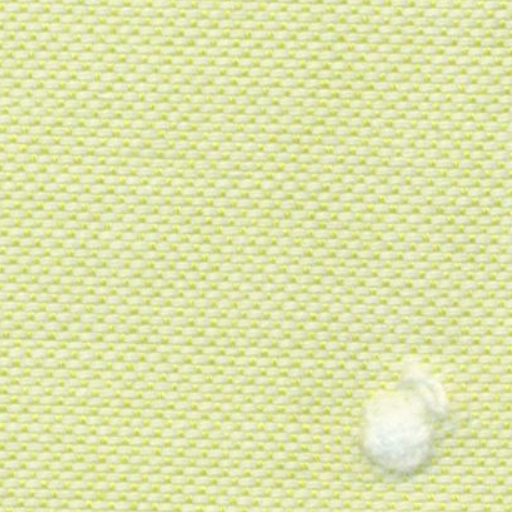MianQiu: (330, 332, 477, 482)
